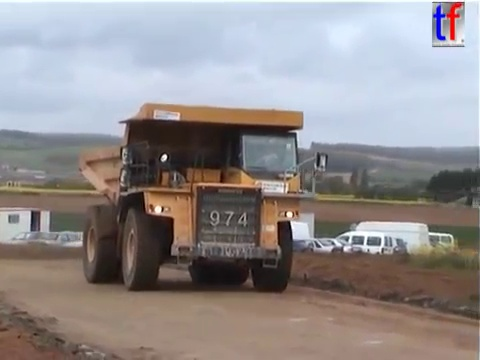truck: (76, 100, 330, 294)
